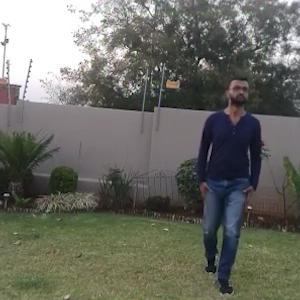follow: (183, 69, 261, 287)
